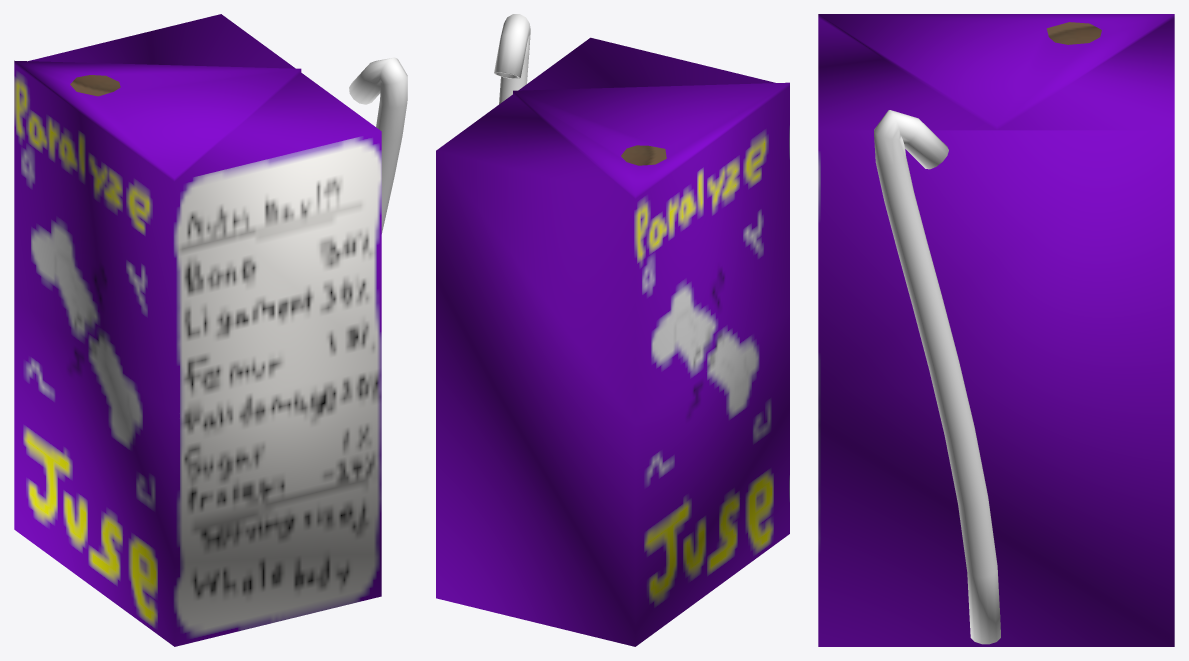
File: item-paralyze-juse.glb
The picture shows the model from 3 angles, left to right: view 1: azimuth 30°, elevation 25°; view 2: azimuth 150°, elevation 25°; view 3: azimuth 270°, elevation 25°; orthographic projection. The views are drawn at different scales.
Size of the model in its own units: 0.0768 by 0.14 by 0.0808.
Materials: 3 (2 with a texture image).
